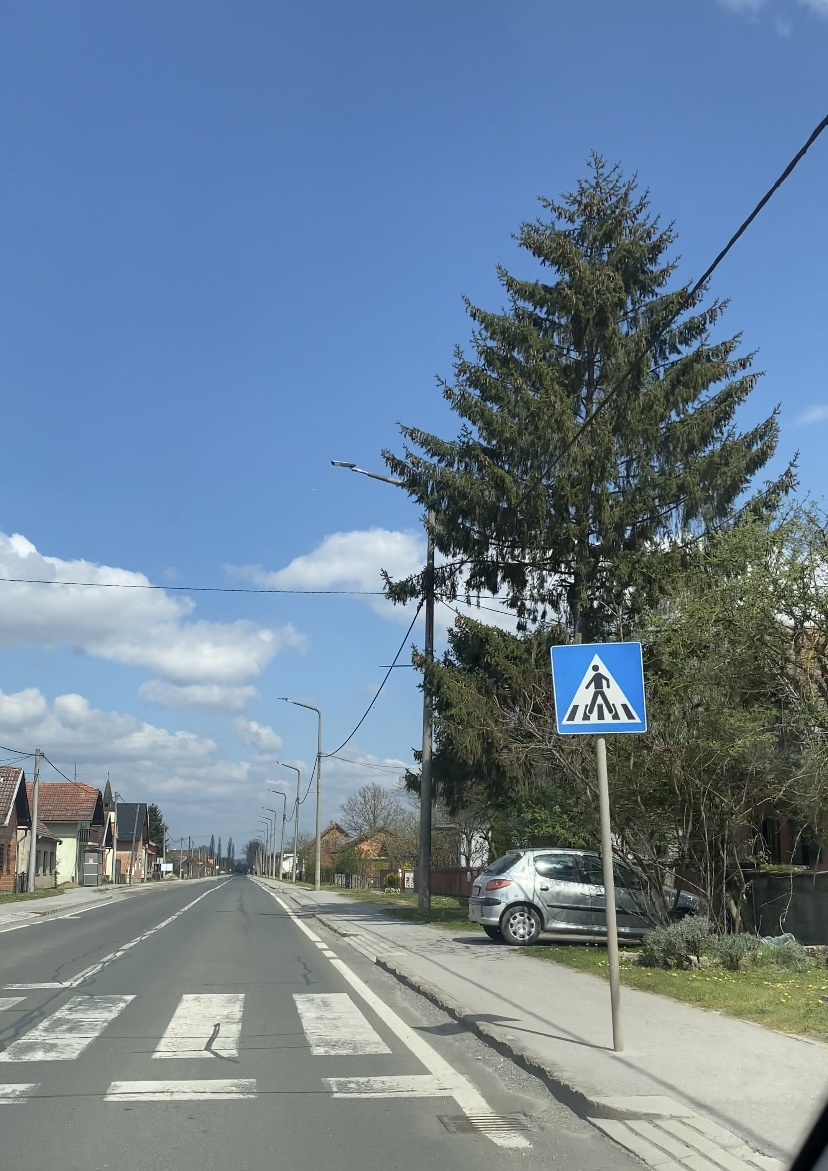Pješački prijelaz: (549, 641, 648, 734)
